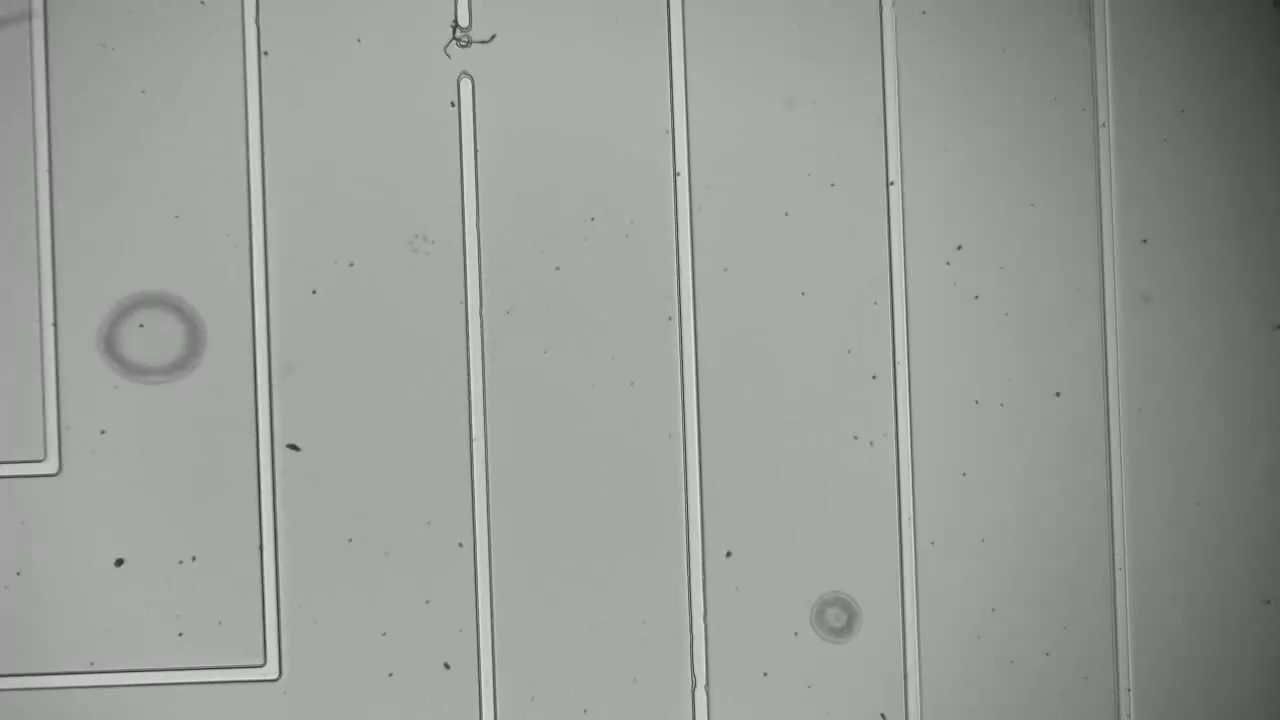edge_bite: (682, 660, 727, 705)
open: (439, 7, 496, 94)
